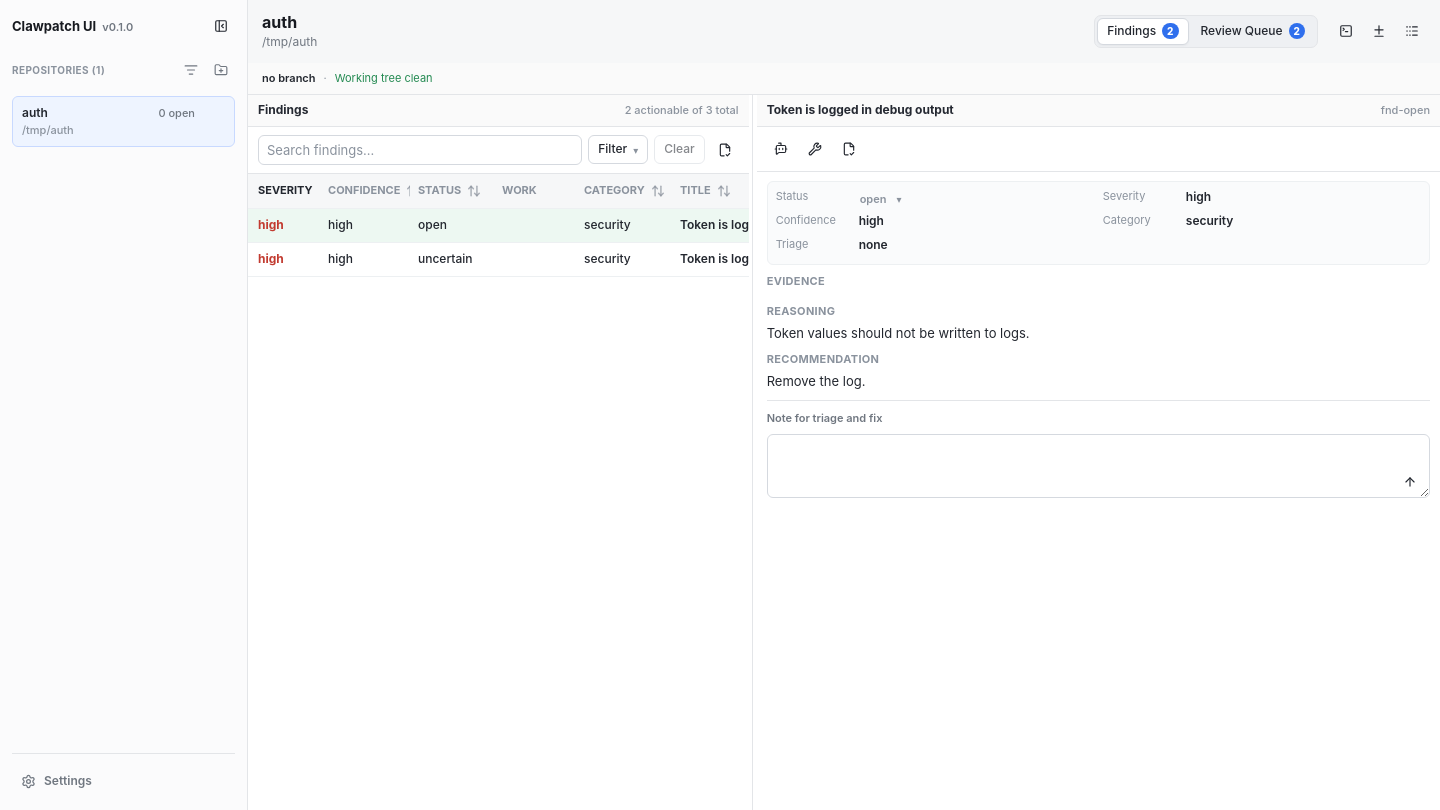
Test: ClawpatchApp header actions › switches between findings and review queue workspaces
The width and height of the screenshot is (1440, 810).
expect the heading "auth" is shown: met, box [262,12,297,32]
expect the heading "Findings" is shown: met, box [258,102,308,119]
What coordinates should you click on to do the following:
click the tab with aria-label "Review Queue, 2 unreviewed"
I would click on:
 (1253, 31)
Its box is [1190,18,1315,45].
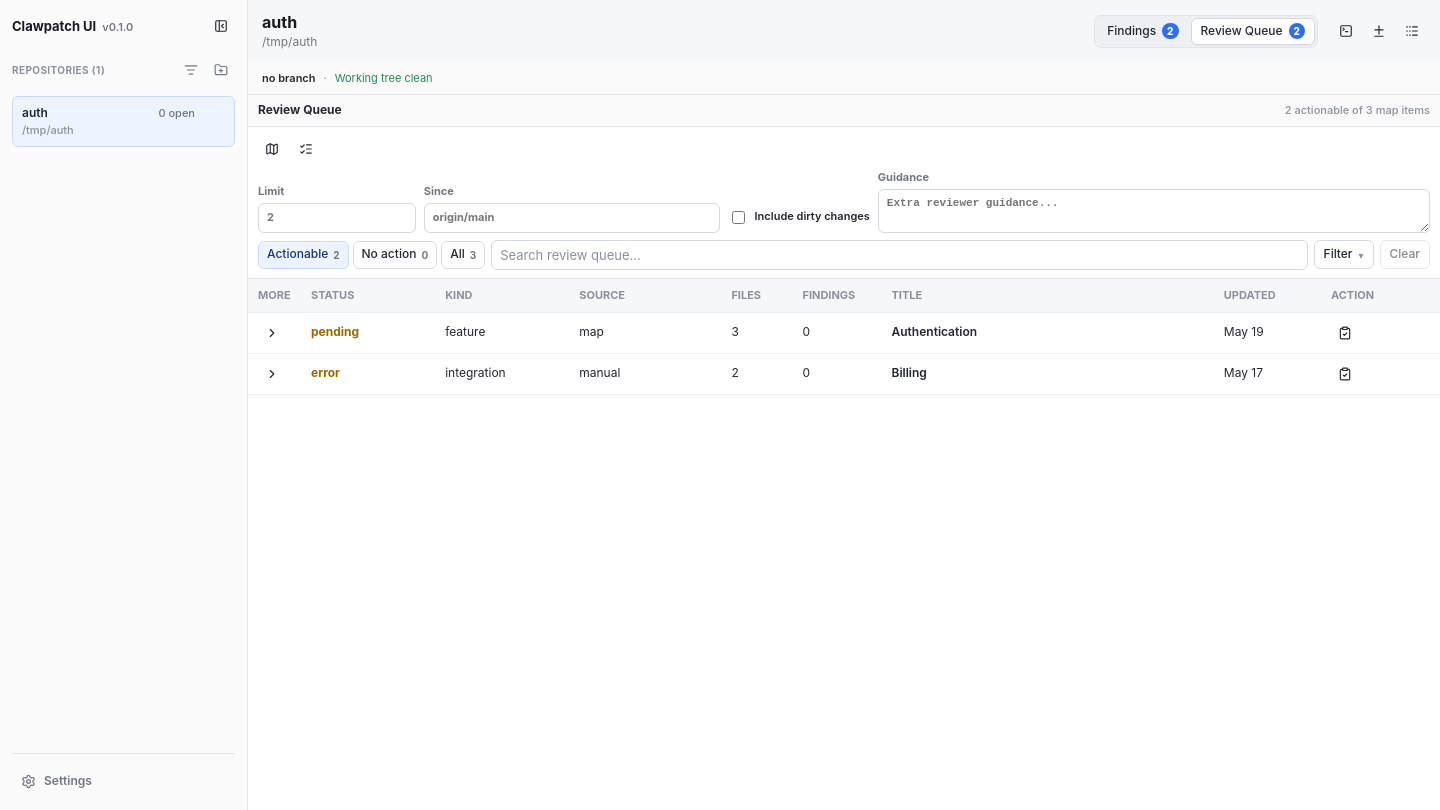
expect the heading "Review Queue" is shown: met, box [258,102,342,119]
expect the text "2 actionable of 3 map items" is shown: met, box [1285,102,1430,118]
expect the button named "Review all 2 mapped features pending review" is shown: met, box [292,135,320,163]
